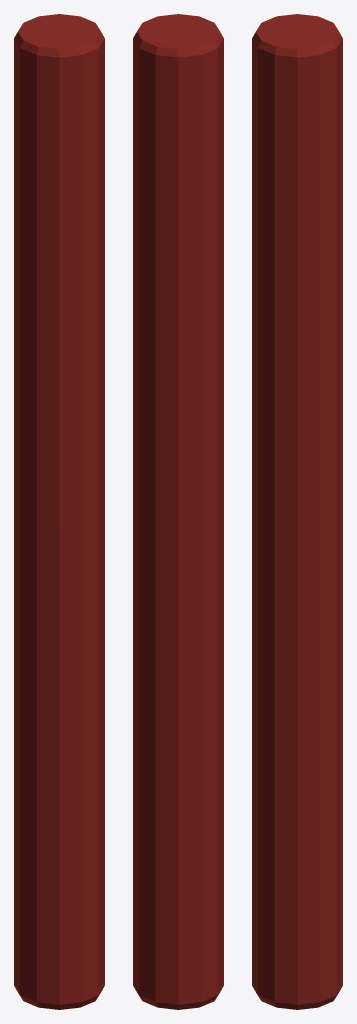
File: BrushHandle.fbx
3 views of the same model, side by side, from view 1: azimuth 90°, elevation 25°; view 2: azimuth 150°, elevation 25°; view 3: azimuth 270°, elevation 25° (orthographic).
Parts seen in each view (by area): view 1: BrushHandle; view 2: BrushHandle; view 3: BrushHandle.
Part boxes in pixels (box(x1,y1,x2,y2)): BrushHandle: box(14, 14, 104, 1009); BrushHandle: box(133, 14, 223, 1009); BrushHandle: box(252, 14, 342, 1009).
Bounding box in the file's own units: 0.012 × 0.14 × 0.012.
